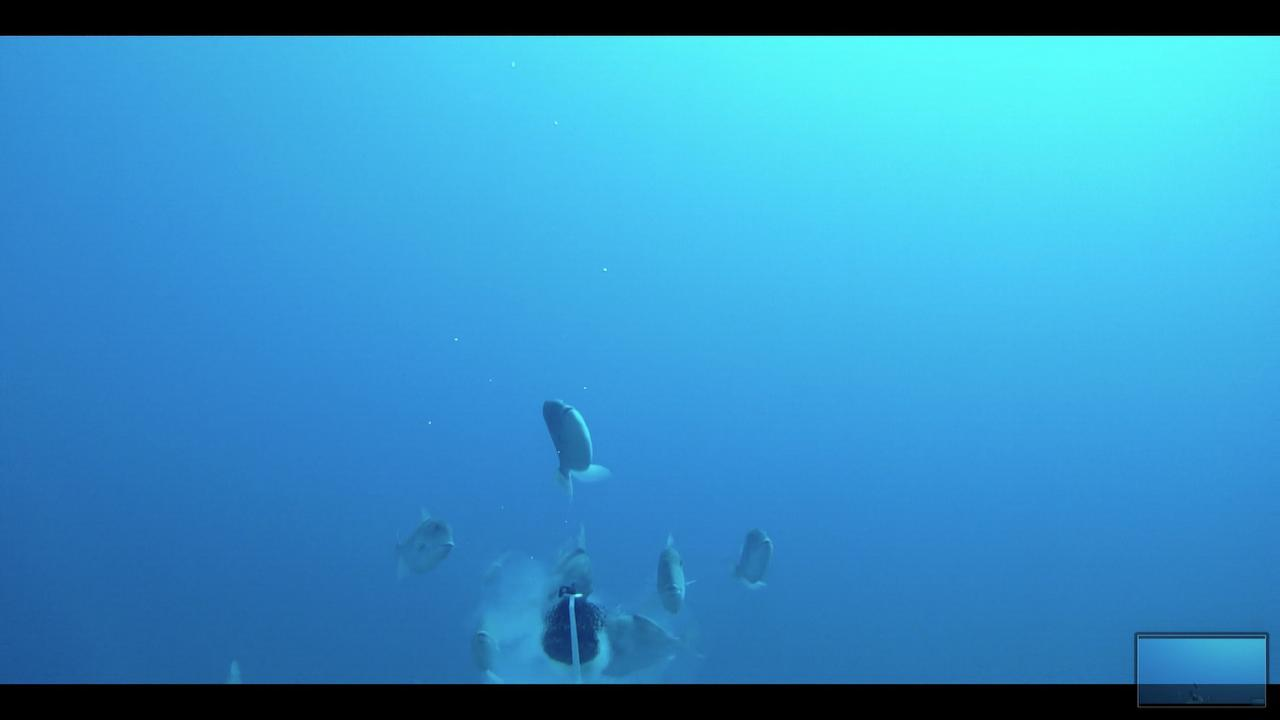balistes: (526, 390, 614, 501), (375, 496, 464, 580), (642, 526, 706, 614), (720, 518, 786, 598)
